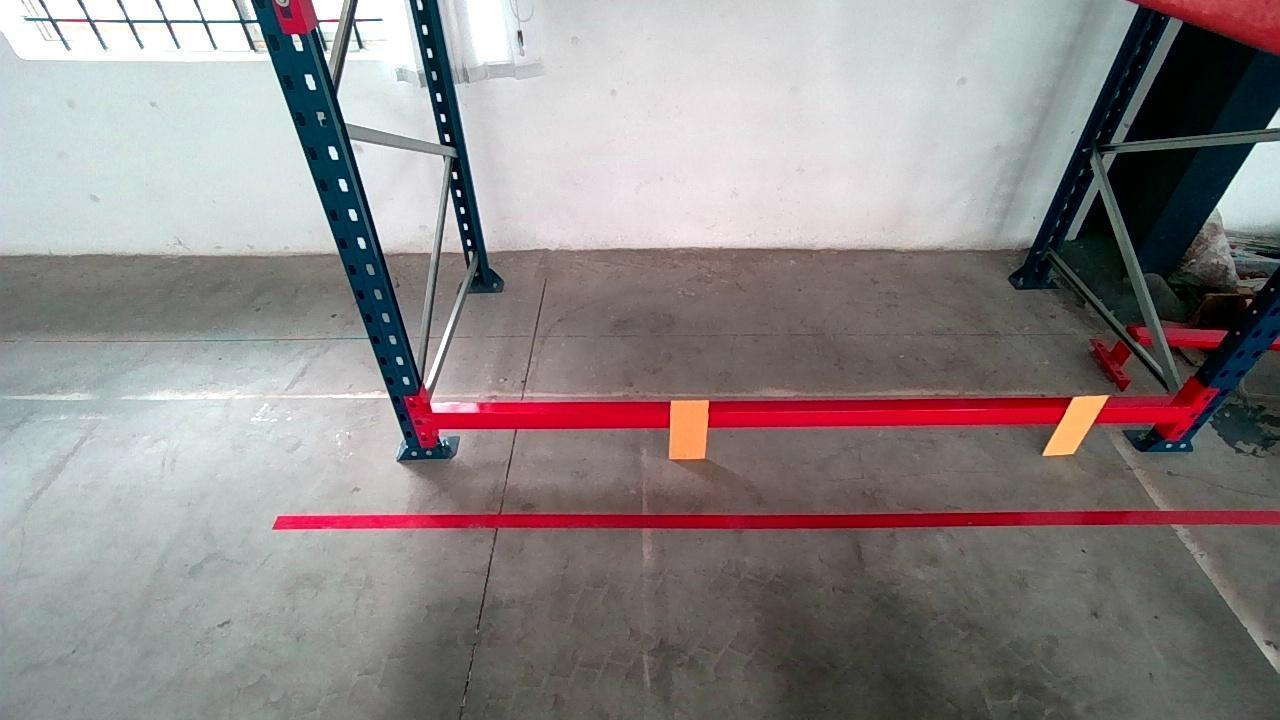red_line: (273, 511, 1280, 531)
